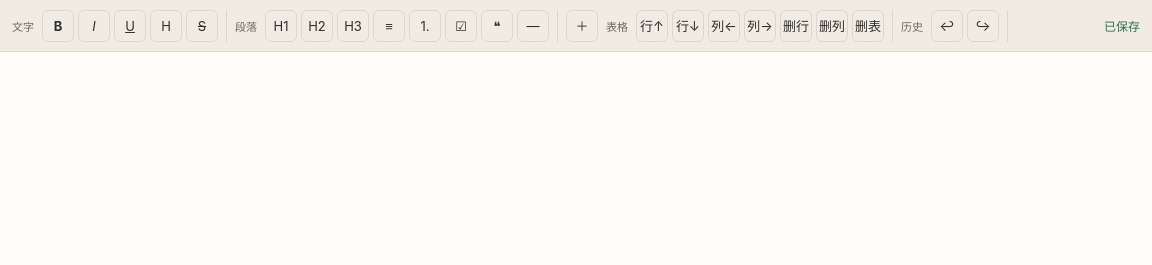
Scenario: EditorToolbar table popover › keeps every editor command reachable through accessible labels
This screenshot has width=1152, height=265.
Expected: the button named "加粗 (Ctrl+B)" is shown, [42,10,74,42]
Expected: the button named "斜体 (Ctrl+I)" is shown, [78,10,110,42]
Click the button named "插入内容". click: (582, 26)
box: [566,10,598,42]
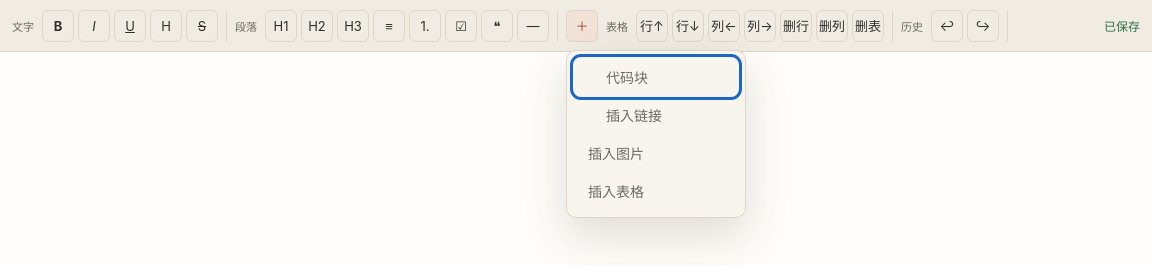
Expected: the menu item "插入图片" is shown, [575,134,737,170]
Expected: the menu item "插入表格" is shown, [575,172,737,208]
Expected: the menu item "代码块" is shown, [575,58,737,94]
